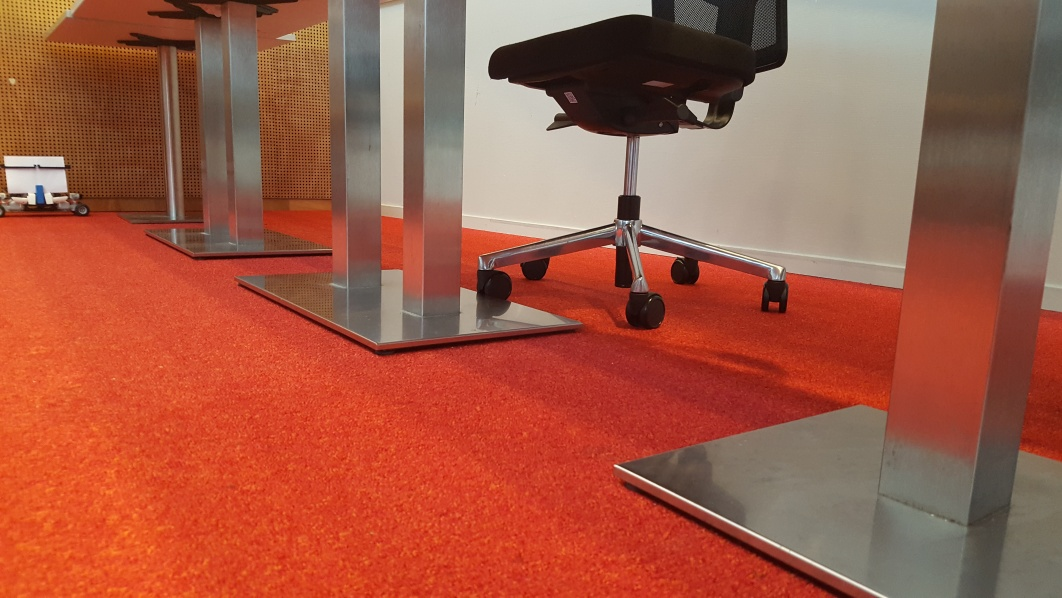car: (3, 146, 90, 221)
